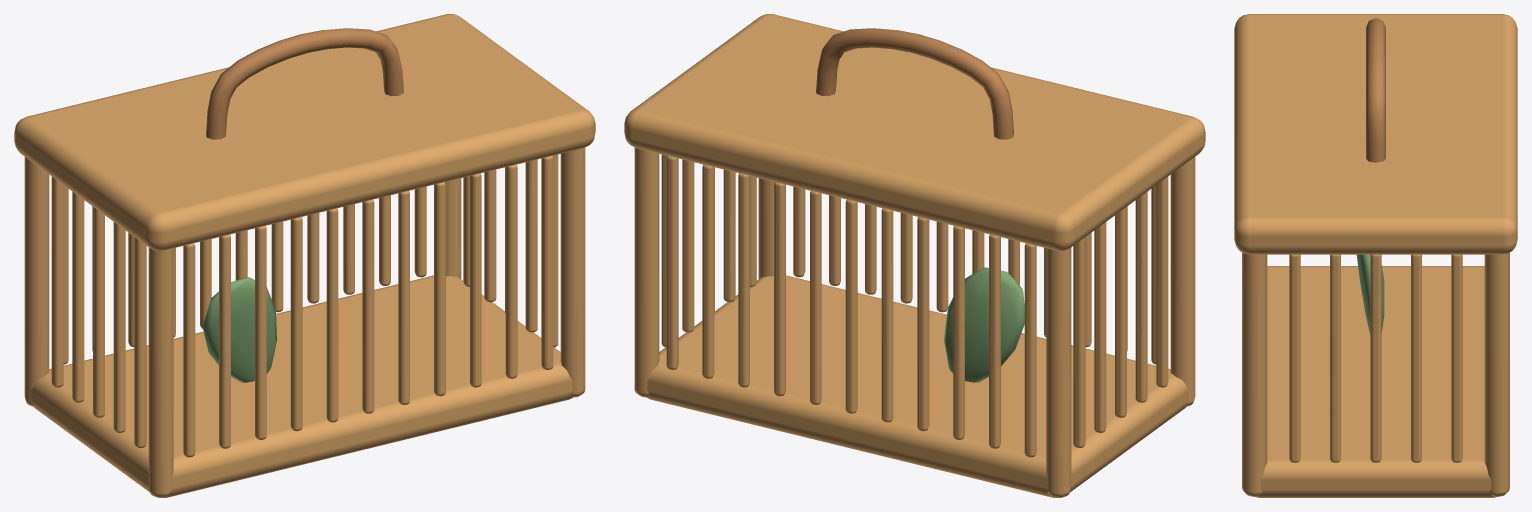
File: insect_house.glb
3 renders of one model, left to right at view 1: azimuth 30°, elevation 25°; view 2: azimuth 150°, elevation 25°; view 3: azimuth 270°, elevation 25°, orthographic. The views are drawn at different scales.
Visible parts, largest first — view 1: insect_house_mesh; view 2: insect_house_mesh; view 3: insect_house_mesh.
Part boxes in pixels (box(x1,y1,x2,y2)): insect_house_mesh: box(14, 14, 595, 497); insect_house_mesh: box(624, 14, 1205, 497); insect_house_mesh: box(1234, 14, 1517, 497).
Bounding box in the file's own units: 1 × 0.79 × 0.56.
